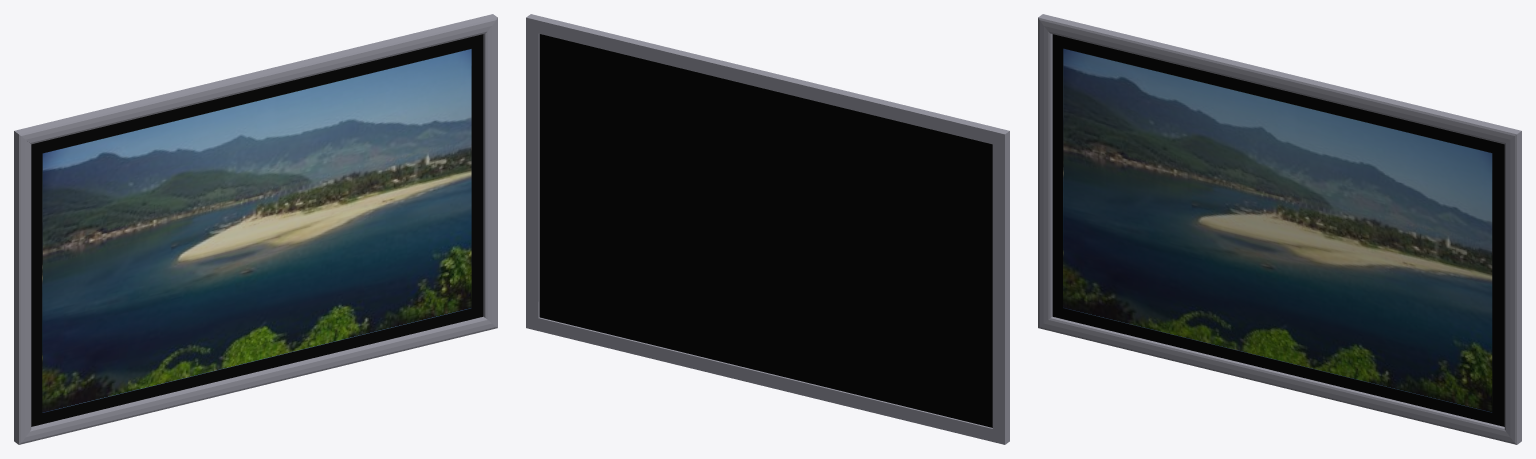
The model's file is HaiVanPassFrame.obj.
The picture shows the model from 3 angles, left to right: view 1: azimuth 30°, elevation 25°; view 2: azimuth 150°, elevation 25°; view 3: azimuth 330°, elevation 25°; orthographic projection.
Parts seen in each view (by area): view 1: Photo_Cube_Material_HaiVanPass.jpg, MetalFrame_Cylinder_Aluminium.004, Frame_Black_Material.005; view 2: Frame_Black_Material.005, MetalFrame_Cylinder_Aluminium.004; view 3: Photo_Cube_Material_HaiVanPass.jpg, MetalFrame_Cylinder_Aluminium.004, Frame_Black_Material.005.
Boxes of the visible parts, x1=… form: Photo_Cube_Material_HaiVanPass.jpg: x1=42, y1=49, x2=471, y2=412; MetalFrame_Cylinder_Aluminium.004: x1=14, y1=14, x2=497, y2=444; Frame_Black_Material.005: x1=31, y1=34, x2=483, y2=426; Frame_Black_Material.005: x1=539, y1=34, x2=992, y2=427; MetalFrame_Cylinder_Aluminium.004: x1=526, y1=14, x2=1009, y2=444; Photo_Cube_Material_HaiVanPass.jpg: x1=1063, y1=48, x2=1492, y2=412; MetalFrame_Cylinder_Aluminium.004: x1=1038, y1=14, x2=1521, y2=444; Frame_Black_Material.005: x1=1052, y1=34, x2=1504, y2=426.
Bounding box in the file's own units: 77.24 × 47.86 × 1.5.
3 materials, 1 textured.
